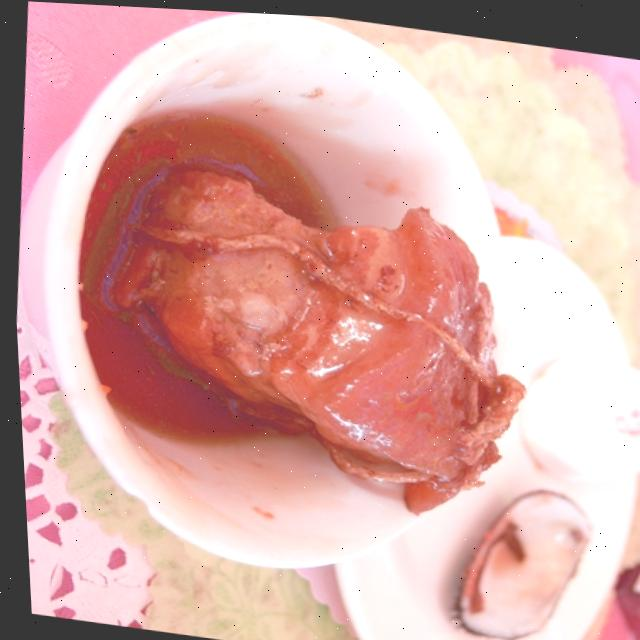牛肉菜式: (3, 5, 601, 640)
